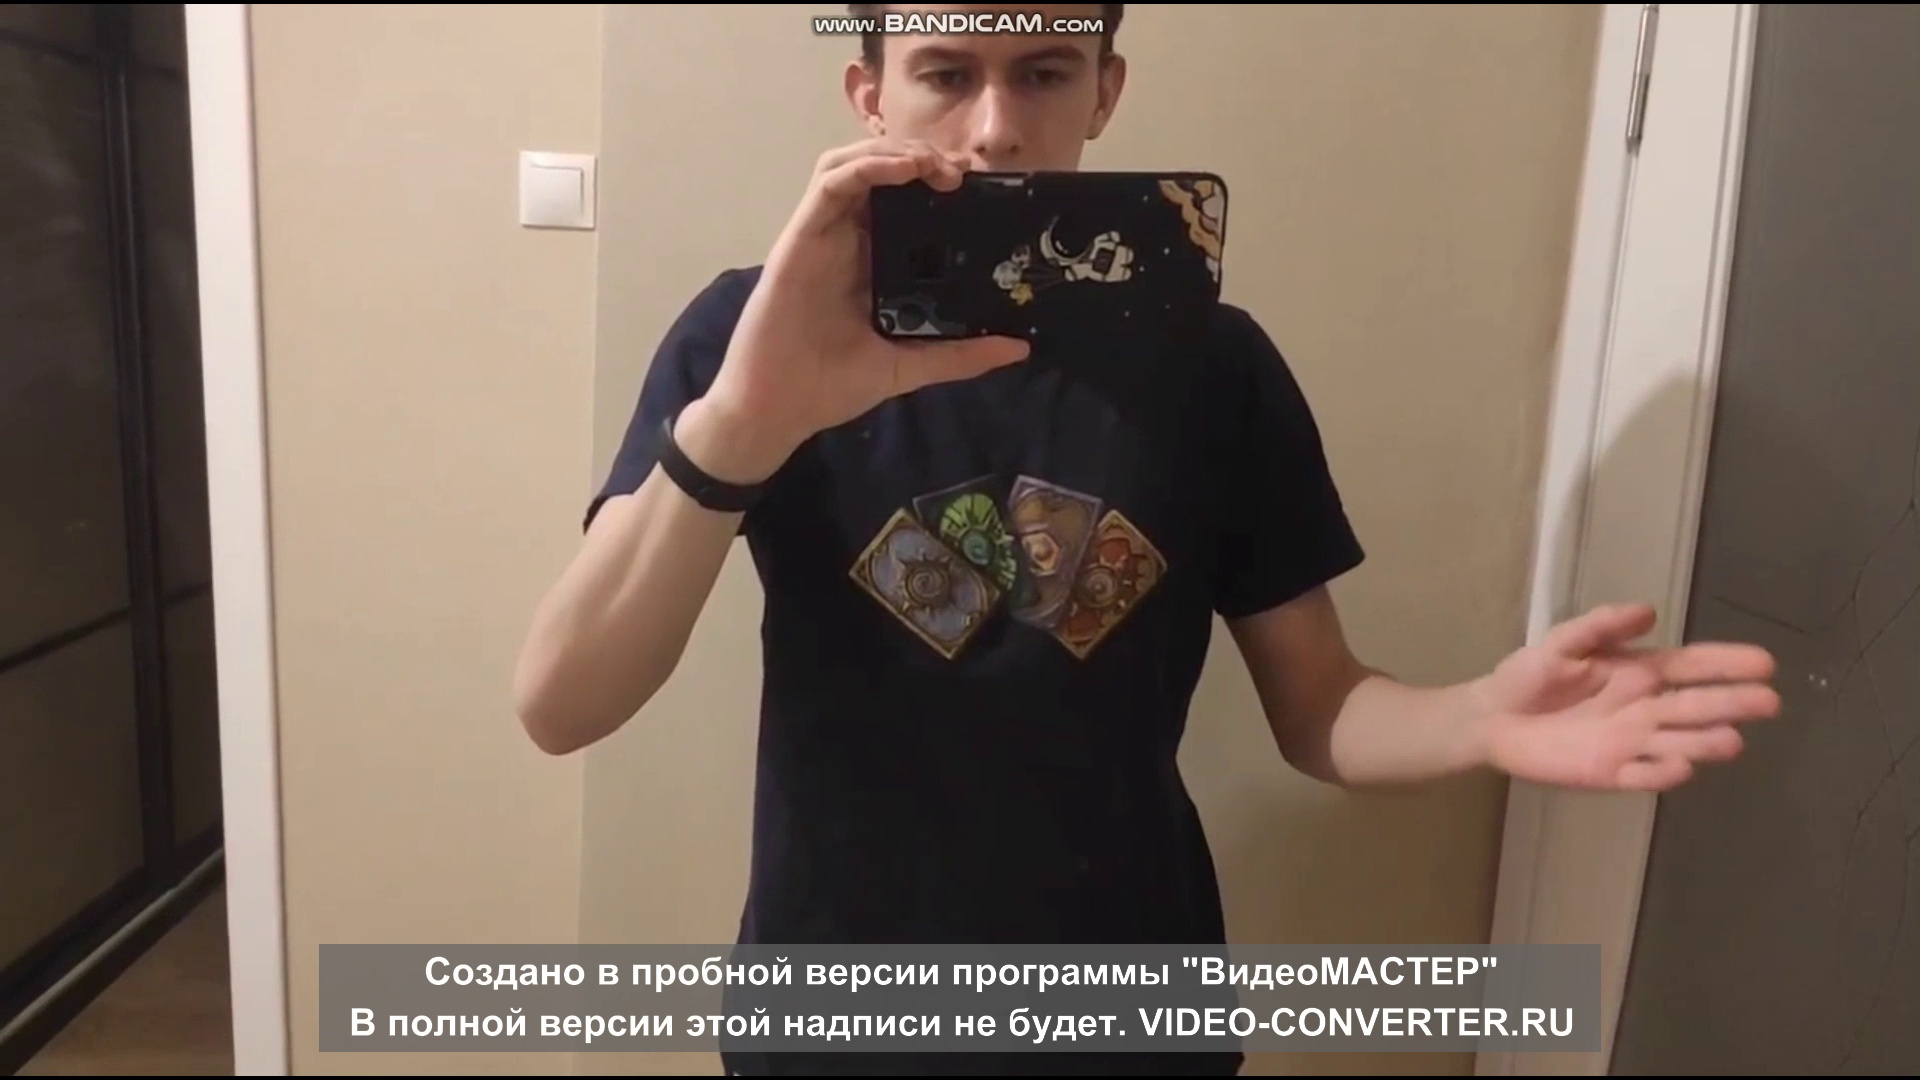Ладонь: (1491, 603, 1783, 793)
